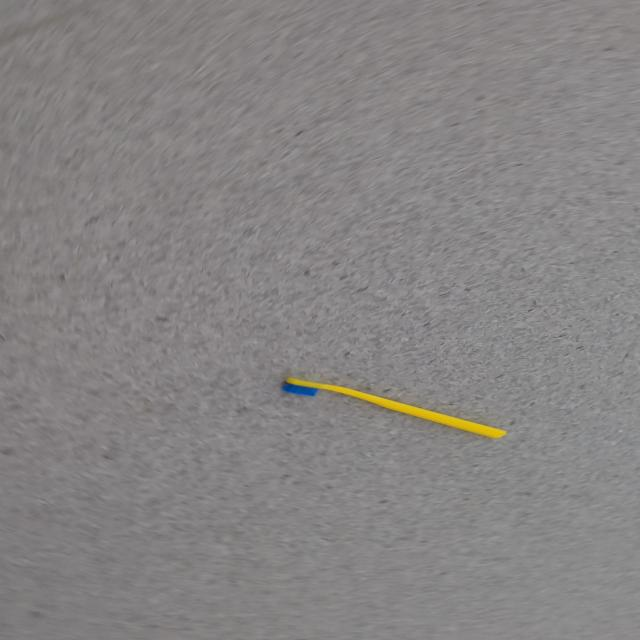toothbrush: (280, 377, 507, 439)
